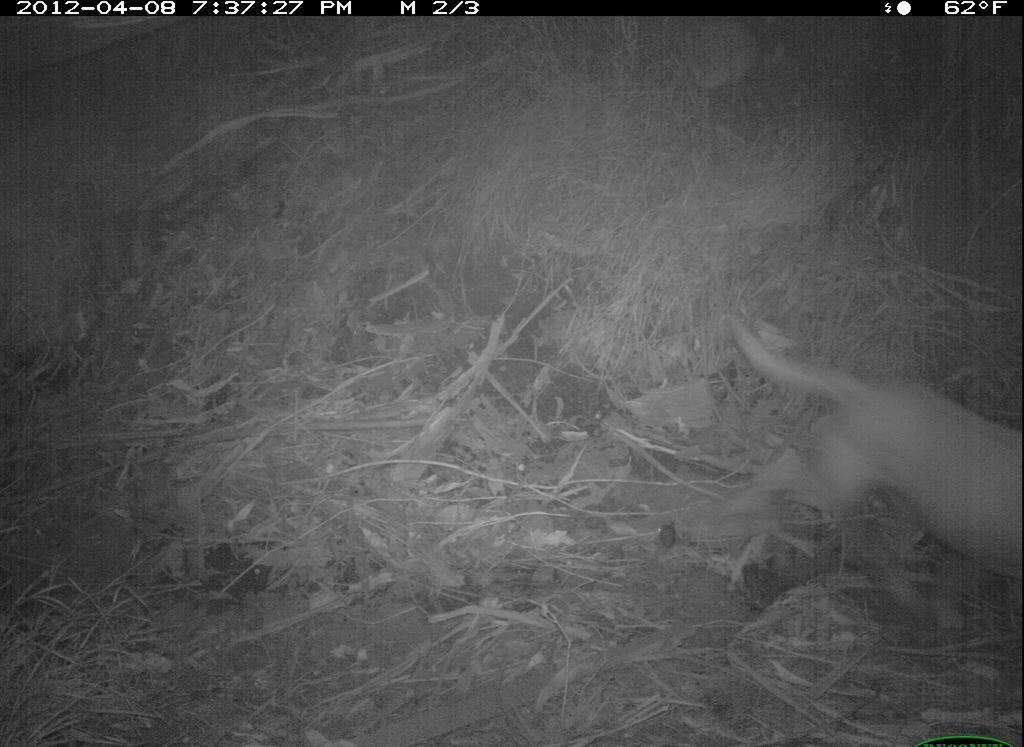dog: (724, 318, 1022, 629)
